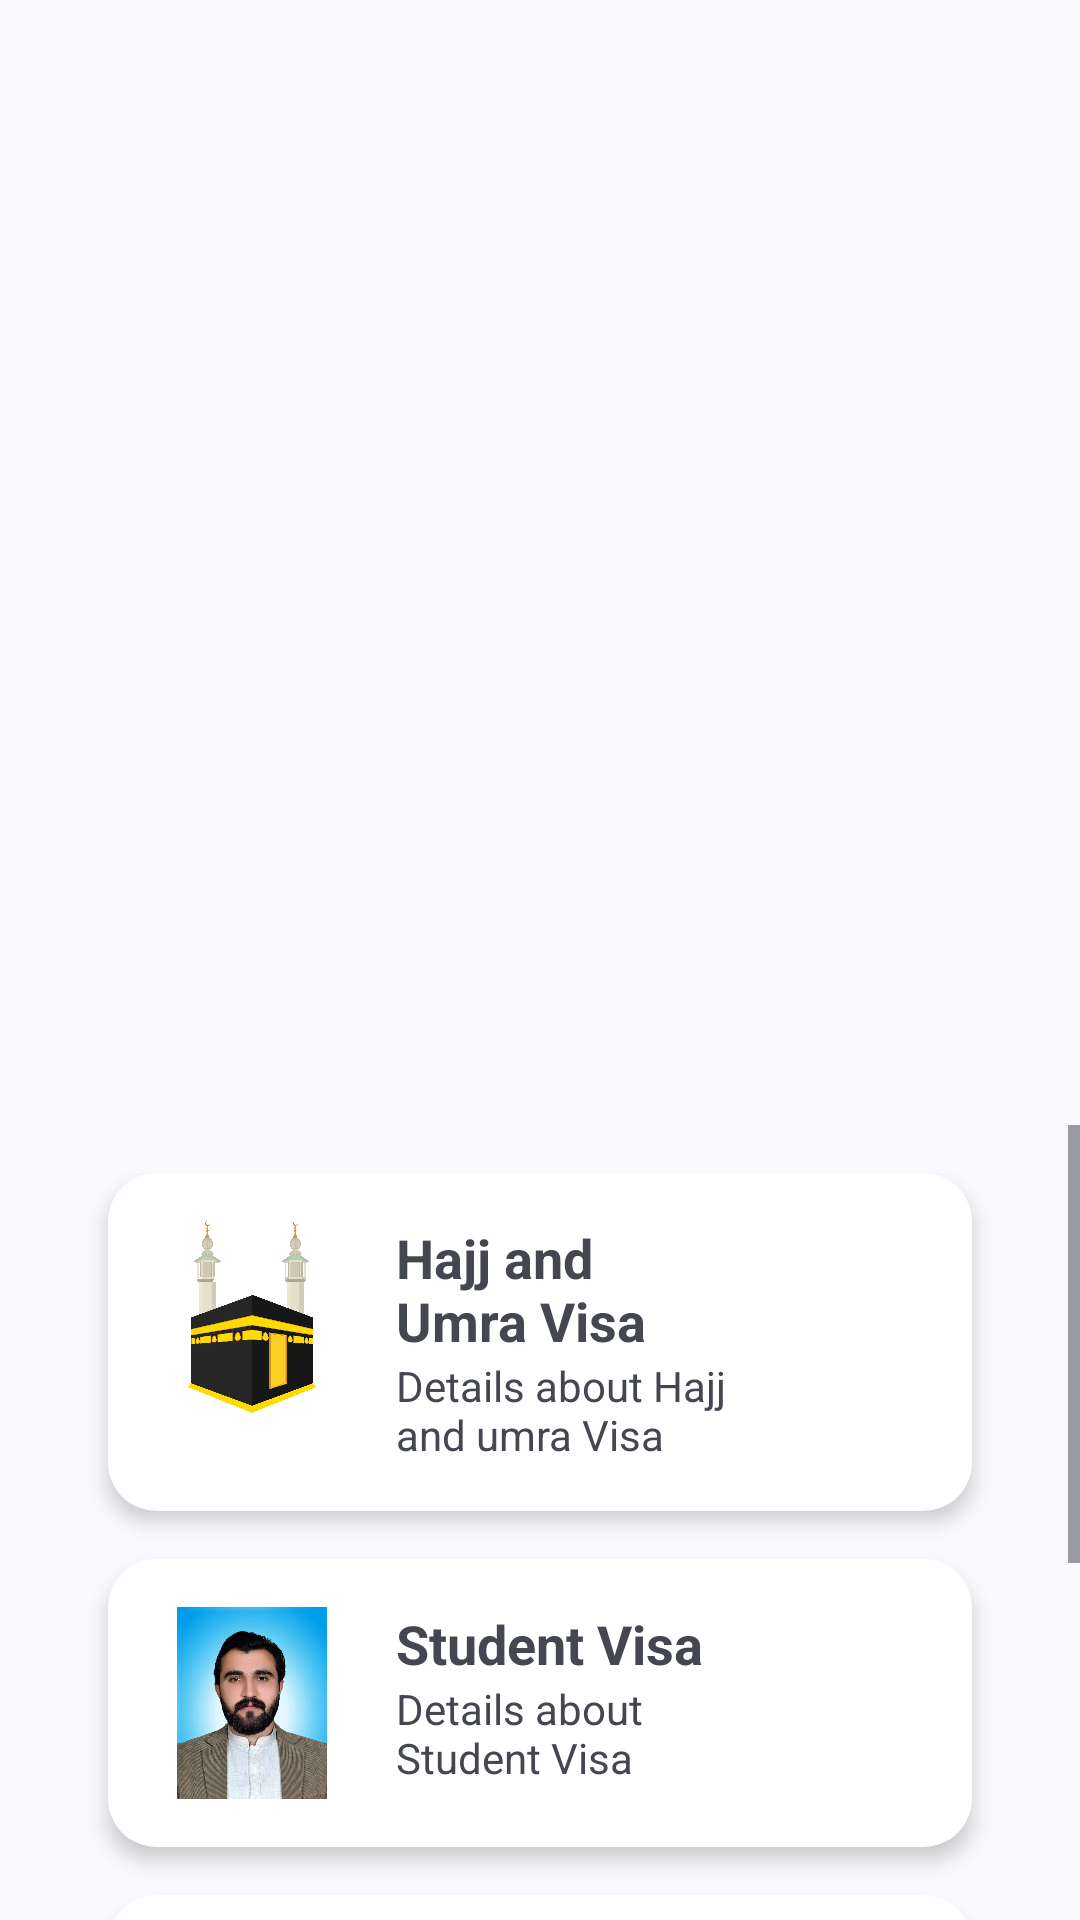

Locate icon controls on the screen. Image size 1080 x 1920, boxes as bbox=[x1, y1, x2, y2].
kaaba: bbox=[188, 1221, 316, 1413]
profilepic: bbox=[177, 1607, 327, 1799]
